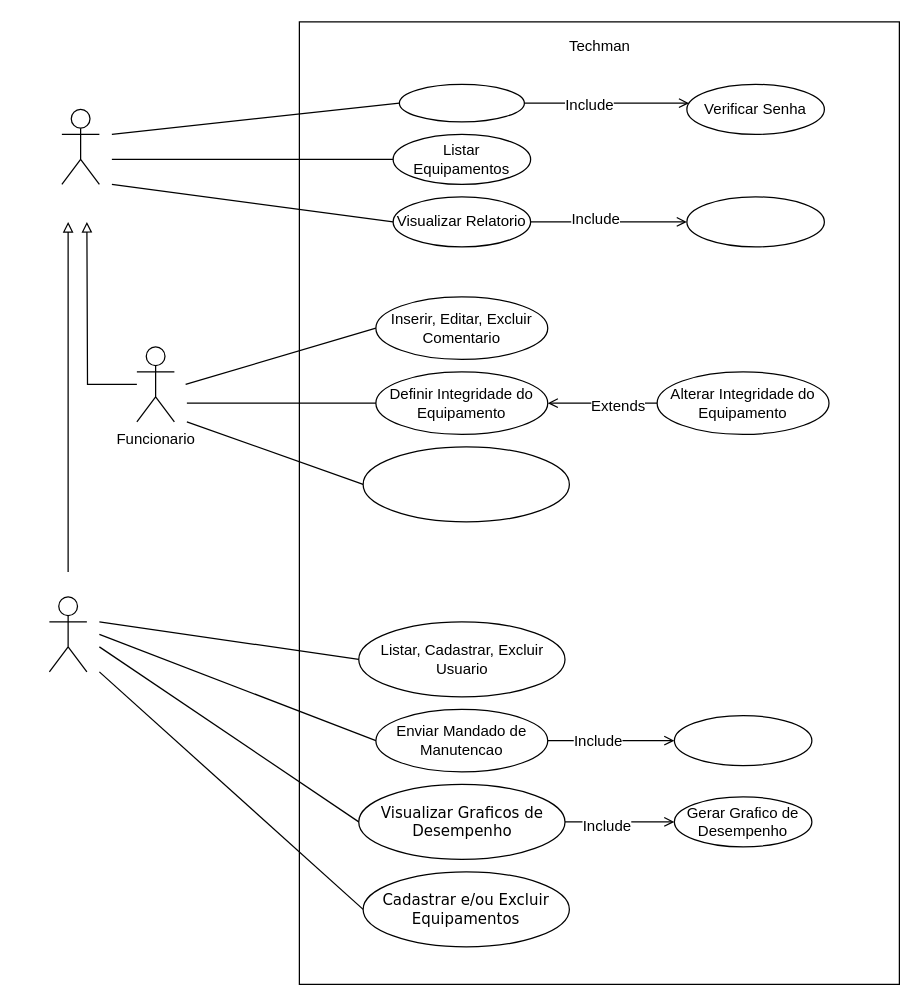
Image size: 921x1006. Some labels were removed from this diagram. The centre of each missing label's shape, as x and y in pixels:
Administrador: the point at 67,634
Fazer Login: the point at 461,102
Gerar Relatorio: the point at 755,221
Usuario: the point at 80,146
Verificar Estoque de Ferramentas de Trabalho: the point at 465,484
Verificar Tipo de Manutencao: the point at 742,740
